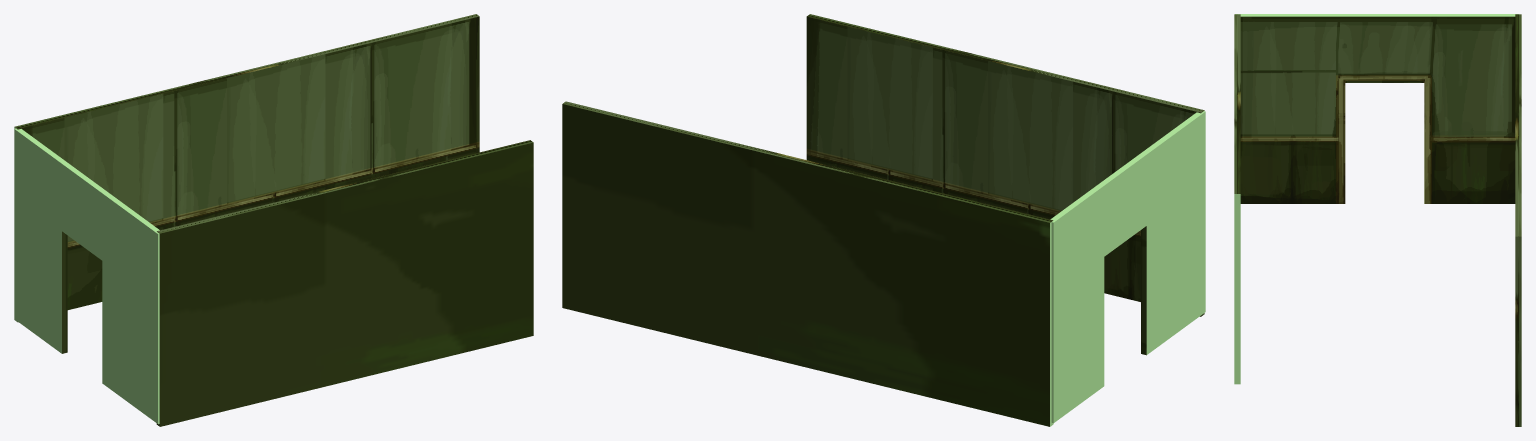
Rendered from SM_Kitchenwallscore.fbx.
3 renders of one model, left to right at view 1: azimuth 30°, elevation 25°; view 2: azimuth 150°, elevation 25°; view 3: azimuth 270°, elevation 25°, orthographic. The views are drawn at different scales.
Visible parts, largest first — view 1: Cube; view 2: Cube; view 3: Cube.
Boxes of the visible parts, bbox=[...] form: Cube: bbox=[14, 14, 533, 426]; Cube: bbox=[562, 14, 1205, 426]; Cube: bbox=[1234, 14, 1521, 426].
Bounding box in the file's own units: 769 × 306 × 419.
